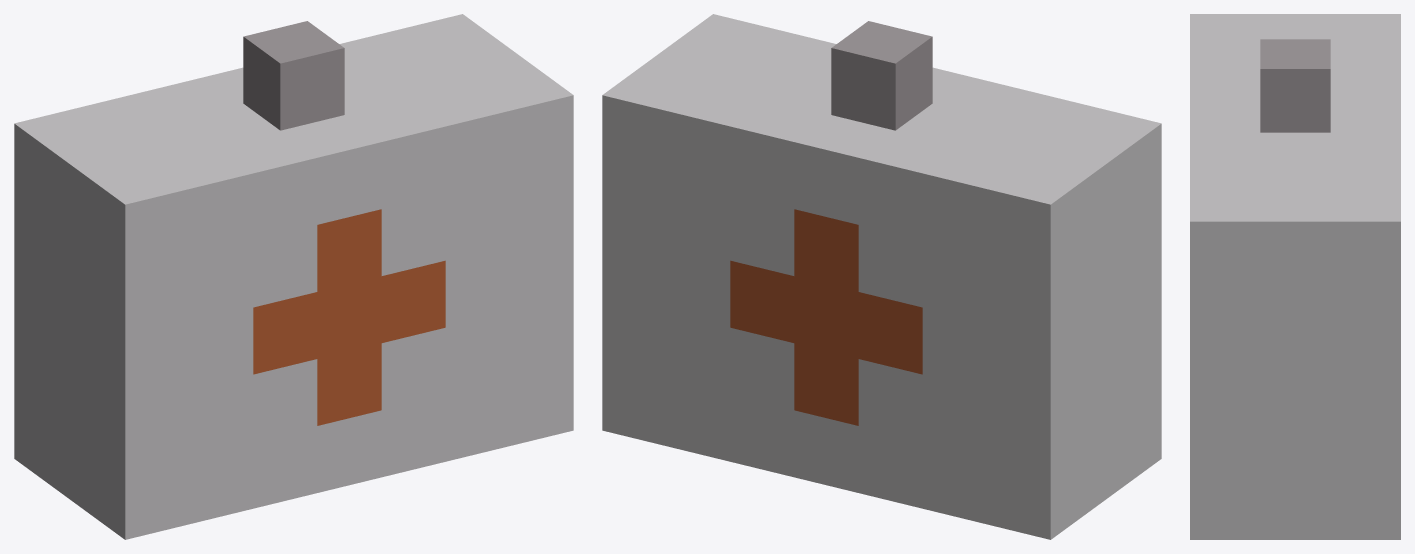
3 renders of one model, left to right at view 1: azimuth 30°, elevation 25°; view 2: azimuth 150°, elevation 25°; view 3: azimuth 270°, elevation 25°, orthographic. The views are drawn at different scales.
Bounding box in the file's own units: 0.35 × 0.3 × 0.15.
